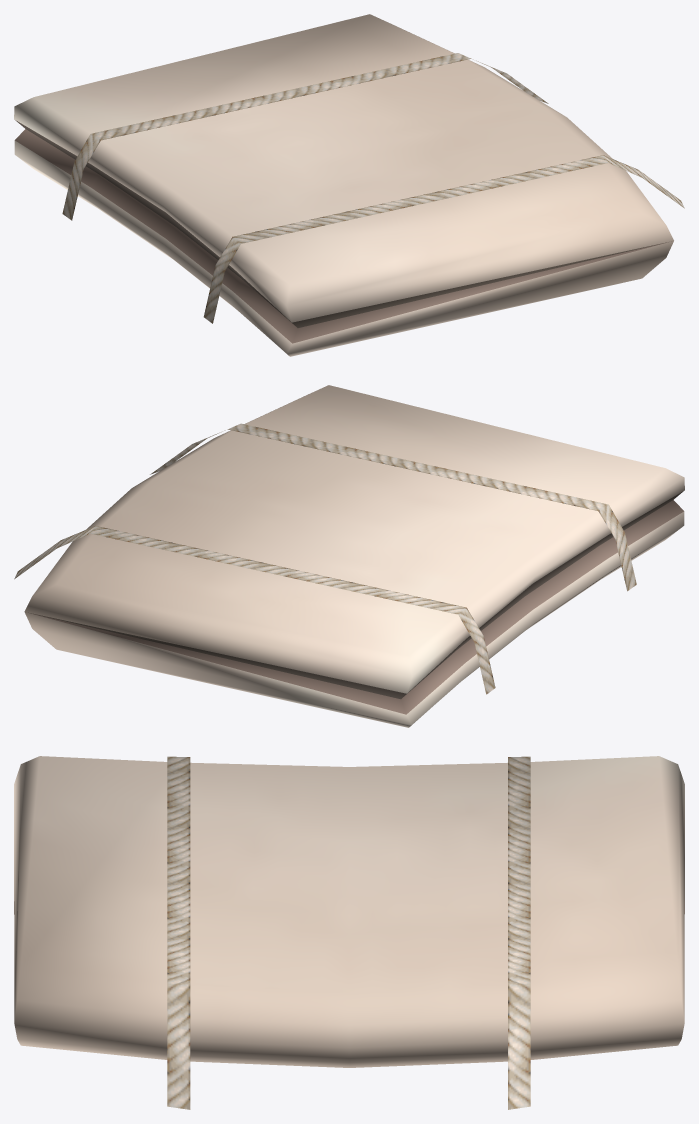
The model's file is Ship_Sail_Folded_DS.fbx.
The picture shows the model from 3 angles, top to bottom: view 1: azimuth 30°, elevation 25°; view 2: azimuth 150°, elevation 25°; view 3: azimuth 270°, elevation 25°; orthographic projection. The views are drawn at different scales.
Visible parts, largest first — view 1: Folded Sail; view 2: Folded Sail; view 3: Folded Sail.
Part boxes in pixels (x1,y1,x2,y2): Folded Sail: (14,14,684,356); Folded Sail: (14,385,684,727); Folded Sail: (14,756,684,1109).
Bounding box in the file's own units: 269 × 39.43 × 271.
1 material, 1 textured.
